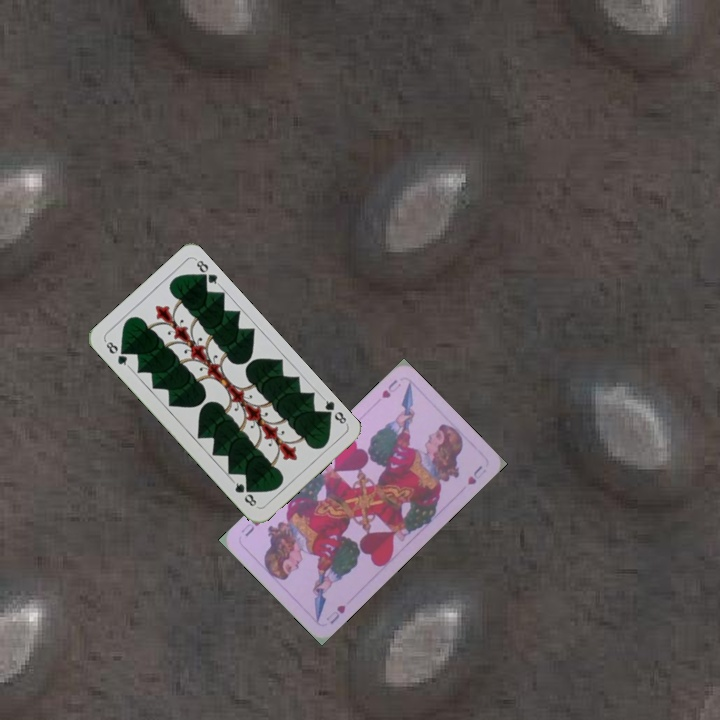G8: (101, 337, 132, 370), (318, 394, 349, 427)
HU: (322, 601, 348, 627), (378, 375, 403, 401)
